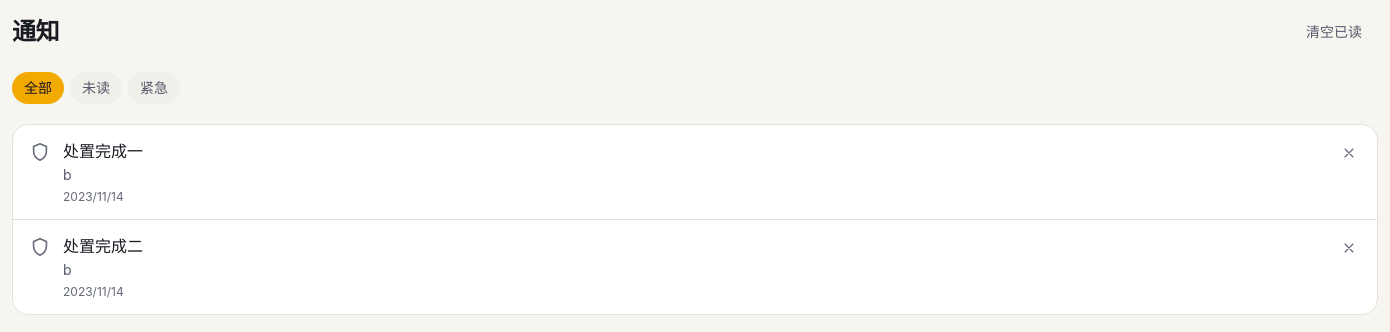
Test case: NotificationsPage 删除 / 清空已读 › 每条有"删除通知"按钮：点击→调 deleteNotif(id) 并从列表移除
The image size is (1390, 332).
Expected: the text "处置完成一" is shown, [63, 139, 143, 163]
Step 1. Click the button named "删除通知：处置完成一" → x=1349, y=153, box [1337, 141, 1361, 165]
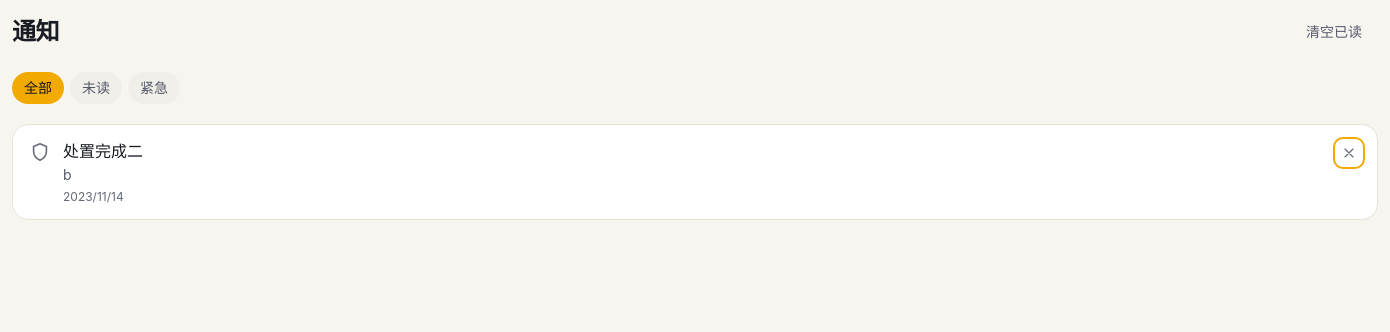
Expected: the text "处置完成二" is shown, [63, 139, 143, 163]
Expected: the button "处置完成一" is gone
Step 2. Click the button named "删除通知：处置完成二" → x=1349, y=153, box [1337, 141, 1361, 165]
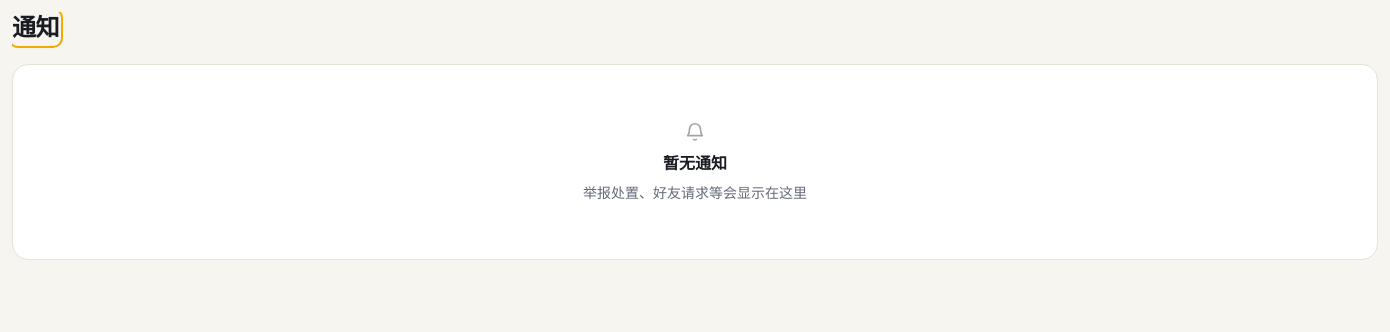
Expected: the button "处置完成二" is gone
